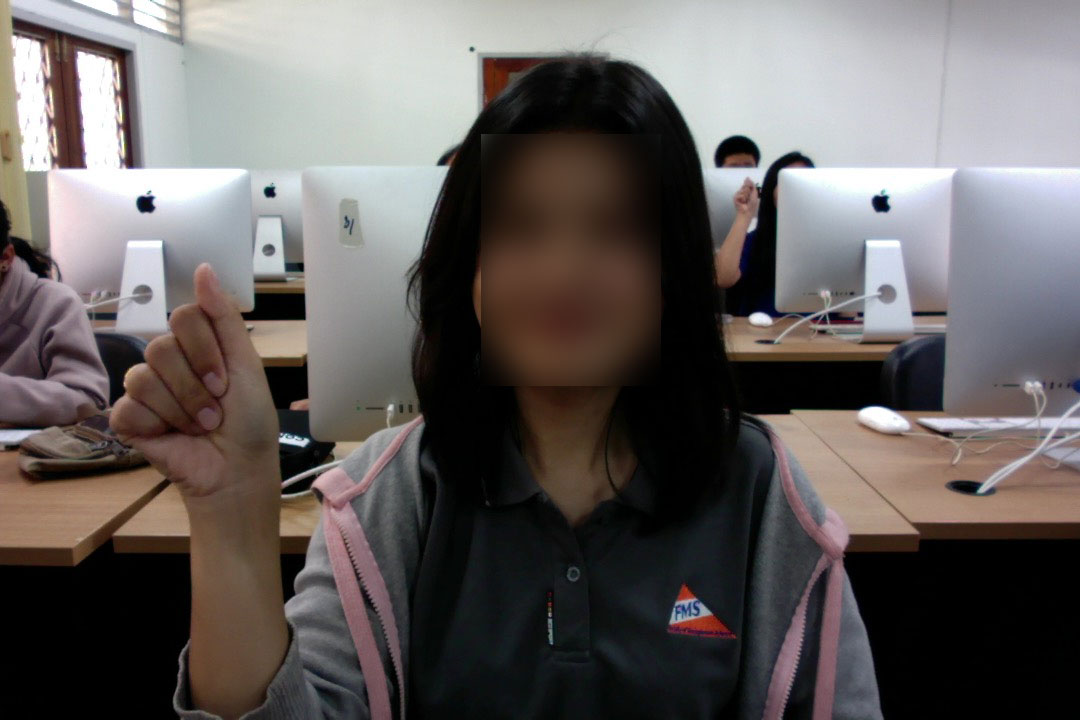or: (99, 260, 294, 502)
